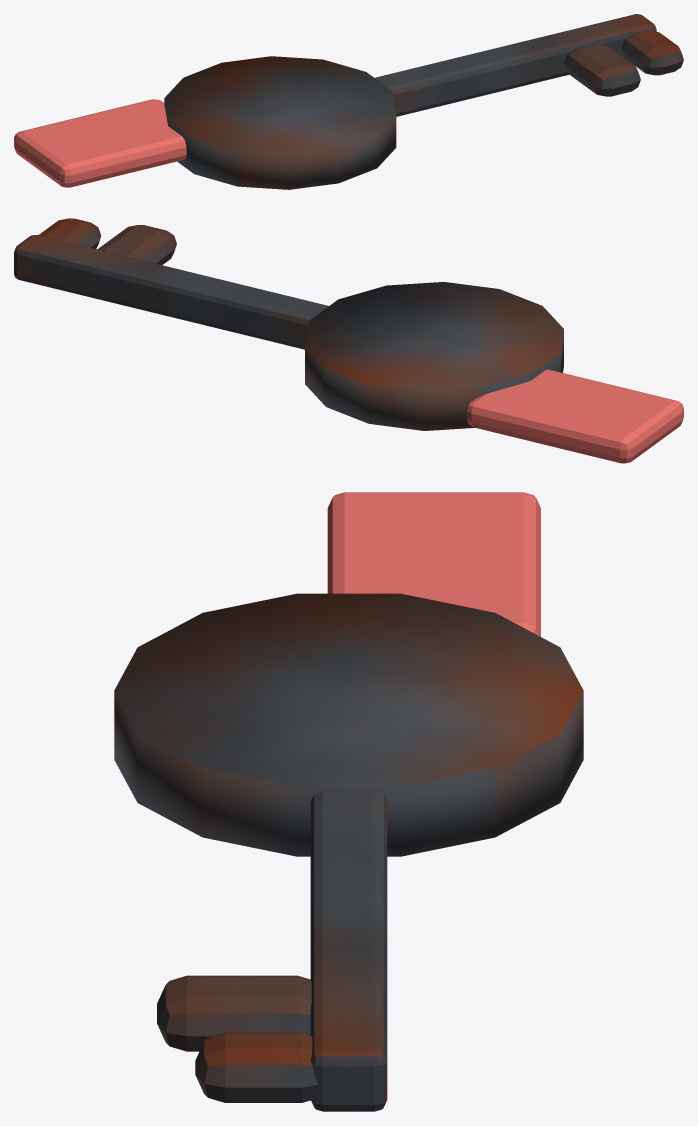
Rendered from item_key.glb.
3 renders of one model, top to bottom at view 1: azimuth 30°, elevation 25°; view 2: azimuth 150°, elevation 25°; view 3: azimuth 270°, elevation 25°, orthographic. The views are drawn at different scales.
Parts seen in each view (by area): view 1: KeyBow, KeyShaft, RedKeyTag, KeyTeeth1, KeyTeeth2; view 2: KeyBow, KeyShaft, RedKeyTag, KeyTeeth1, KeyTeeth2; view 3: KeyBow, KeyShaft, RedKeyTag, KeyTeeth1, KeyTeeth2.
Part boxes in pixels (x1,y1,x2,y2): KeyBow: (164, 56, 396, 189); KeyShaft: (375, 14, 656, 116); RedKeyTag: (14, 99, 186, 187); KeyTeeth1: (564, 44, 640, 96); KeyTeeth2: (622, 30, 683, 75); KeyBow: (305, 282, 563, 430); KeyShaft: (14, 235, 328, 349); RedKeyTag: (467, 369, 683, 463); KeyTeeth1: (97, 225, 176, 264); KeyTeeth2: (39, 218, 101, 248); KeyBow: (114, 593, 583, 856); KeyShaft: (310, 791, 387, 1111); RedKeyTag: (327, 492, 540, 636); KeyTeeth1: (157, 975, 311, 1051); KeyTeeth2: (195, 1032, 317, 1102).
Bounding box in the file's own units: 0.321 × 0.018 × 0.11.
2 materials, 1 textured.
